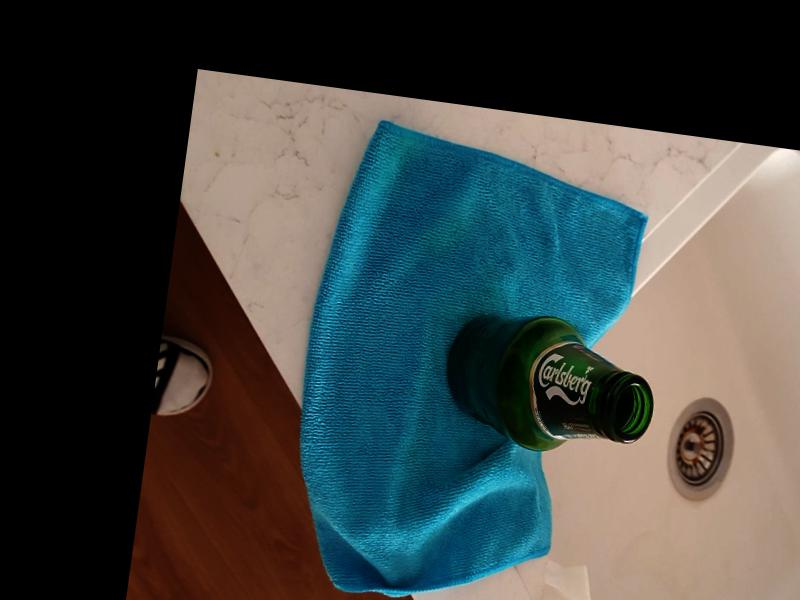Beer: (435, 309, 660, 466)
